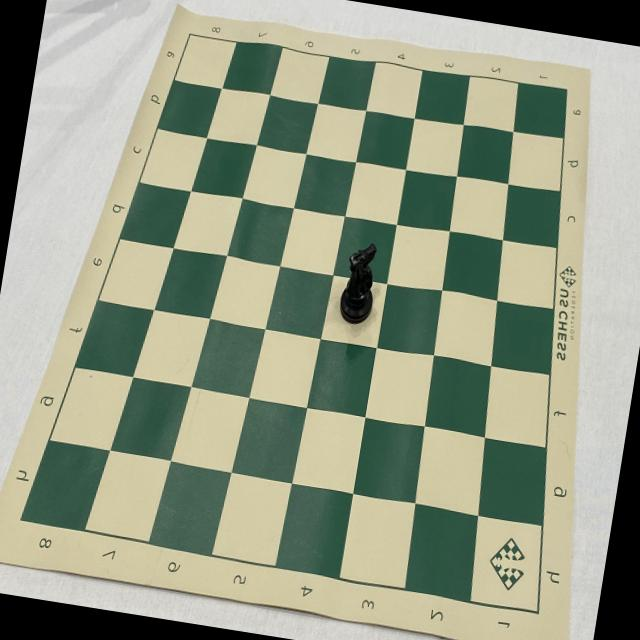black-knight: (336, 240, 383, 328)
